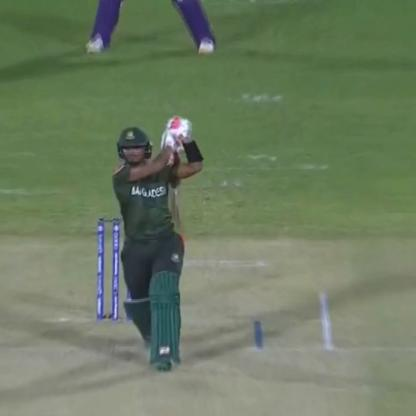bat: (165, 117, 205, 229)
pitch: (2, 278, 370, 416)
